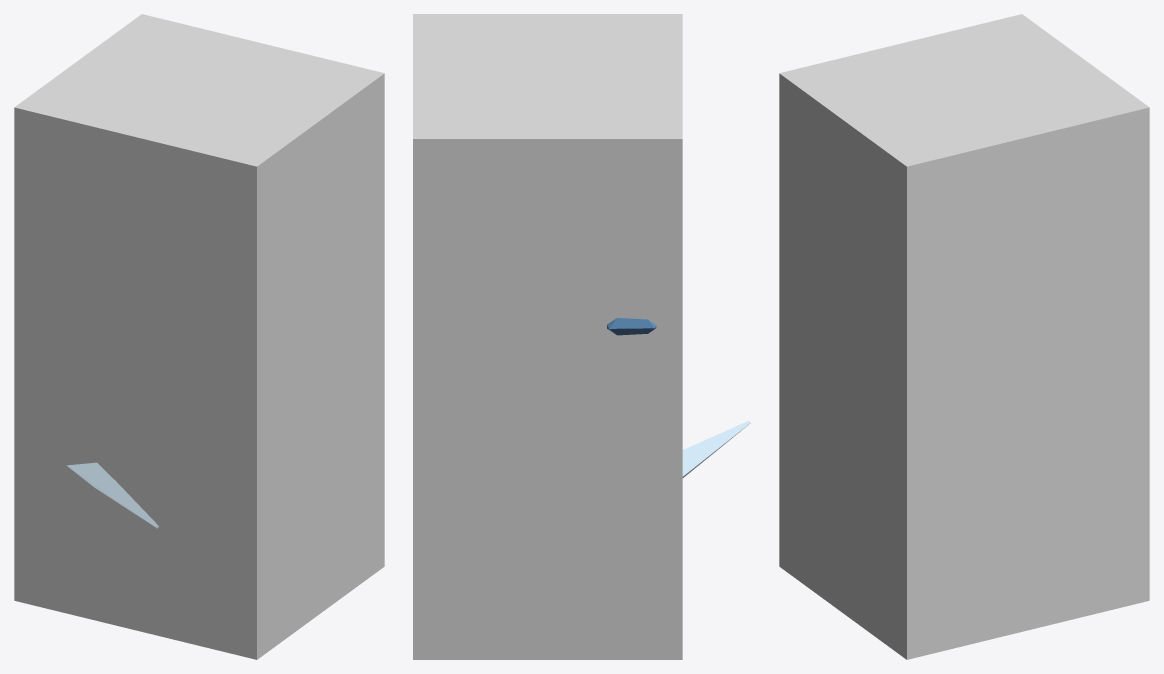
Rendered from tundra_ice_knight.fbx.
3 views of the same model, side by side, from view 1: azimuth 30°, elevation 25°; view 2: azimuth 150°, elevation 25°; view 3: azimuth 270°, elevation 25° (orthographic). The views are drawn at different scales.
Parts seen in each view (by area): view 1: Root__0.00_3.00_-0.71__2.81_6.00_3.09, ArmR__Torso__0.87_3.79_0.00; view 2: Root__0.00_3.00_-0.71__2.81_6.00_3.09, ArmR__Torso__0.87_3.79_0.00, Torso__Root__0.00_2.39_0.00; view 3: Root__0.00_3.00_-0.71__2.81_6.00_3.09.
Boxes of the visible parts, x1,y1,x2,y2 form: Root__0.00_3.00_-0.71__2.81_6.00_3.09: [14, 14, 384, 659]; ArmR__Torso__0.87_3.79_0.00: [66, 462, 158, 528]; Root__0.00_3.00_-0.71__2.81_6.00_3.09: [413, 14, 682, 659]; ArmR__Torso__0.87_3.79_0.00: [682, 420, 750, 477]; Torso__Root__0.00_2.39_0.00: [607, 318, 656, 335]; Root__0.00_3.00_-0.71__2.81_6.00_3.09: [779, 14, 1149, 659].
Bounding box in the file's own units: 112 × 169 × 114.
1 material, 1 textured.
